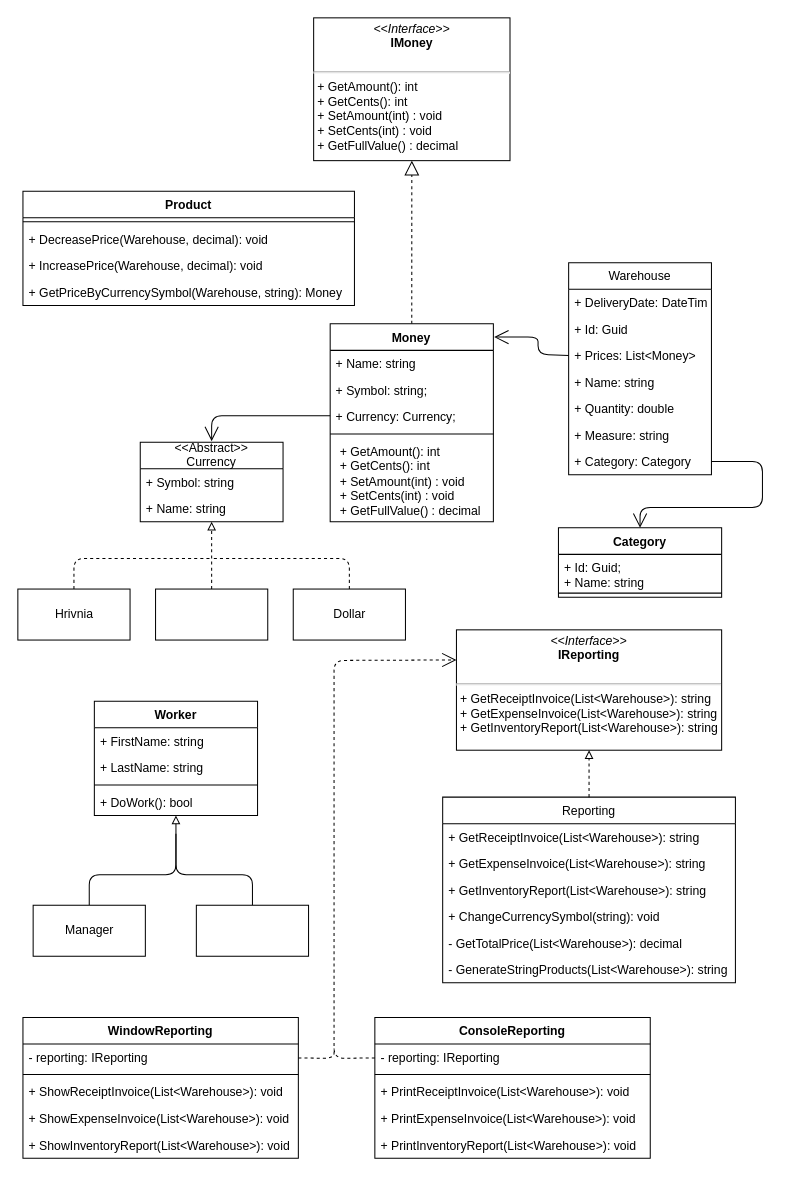
Image size: 795x1179. Some labels were removed from this diagram. The shapes that lost their labels are listed below. From the top down, each one's centre as x and y in pixels, then its label:
At point (211, 614): "Euro".
At point (252, 930): "Keeper".
